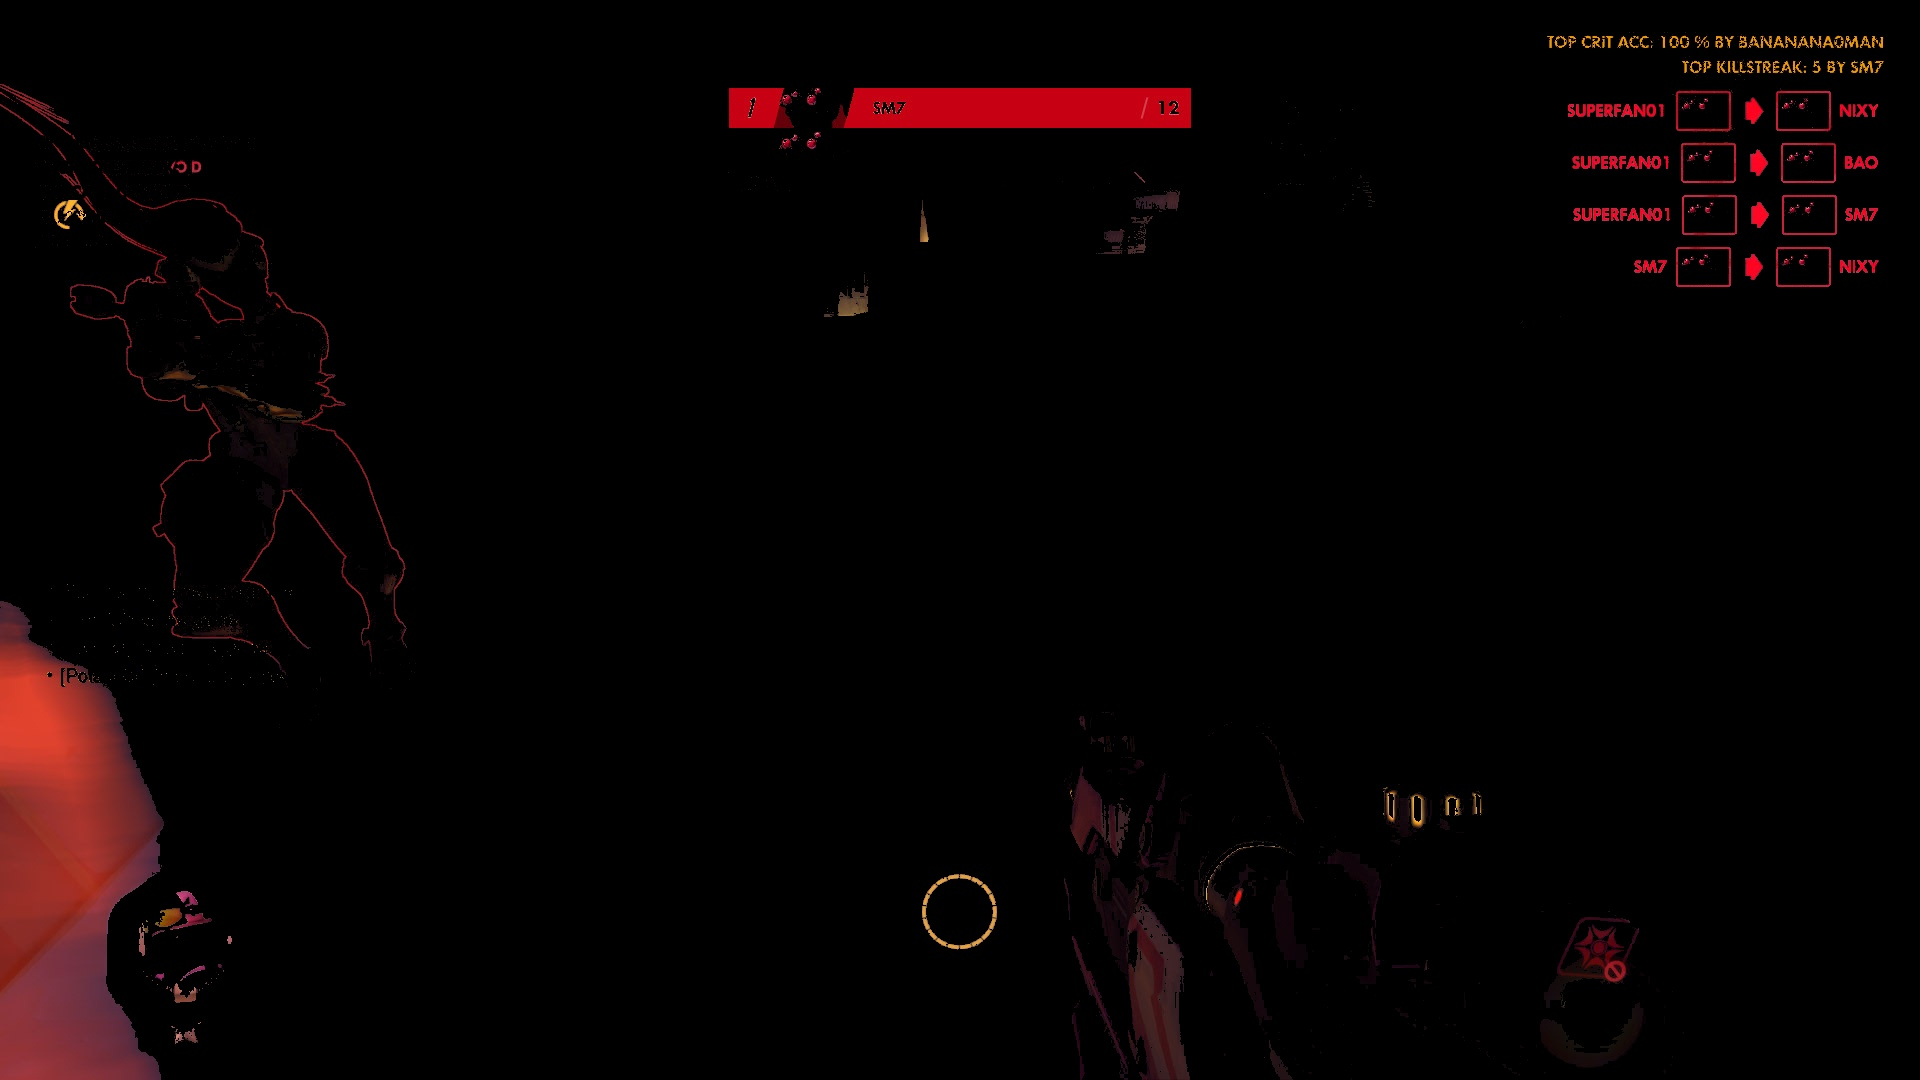widowmaker: (113, 196, 422, 709)
